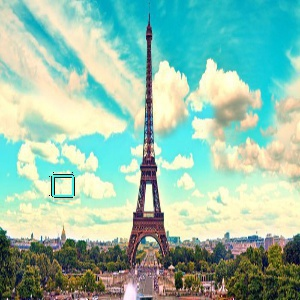square: (50, 173, 76, 198)
